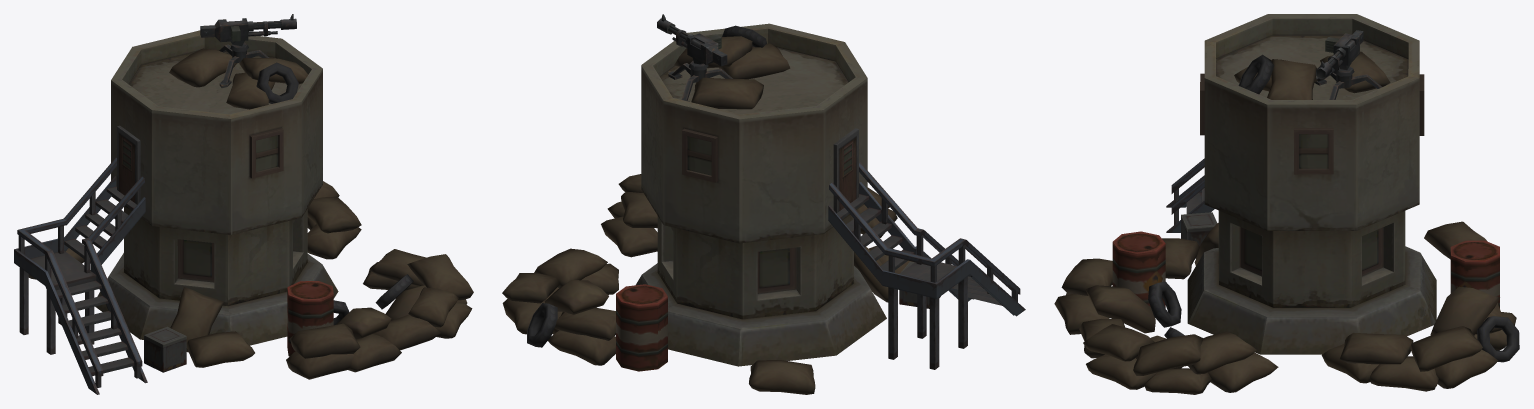
File: WMBridgehead1.FBX
The picture shows the model from 3 angles, left to right: view 1: azimuth 30°, elevation 25°; view 2: azimuth 150°, elevation 25°; view 3: azimuth 270°, elevation 25°; orthographic projection. The views are drawn at different scales.
Visible parts, largest first — view 1: WMBridgehead1; view 2: WMBridgehead1; view 3: WMBridgehead1.
Boxes of the visible parts, <box> form: WMBridgehead1: <box>14,14,473,394</box>; WMBridgehead1: <box>502,14,1025,394</box>; WMBridgehead1: <box>1054,14,1519,394</box>.
Size of the model in its own units: 0.9925 by 0.6691 by 0.9801.
1 material, 1 textured.
